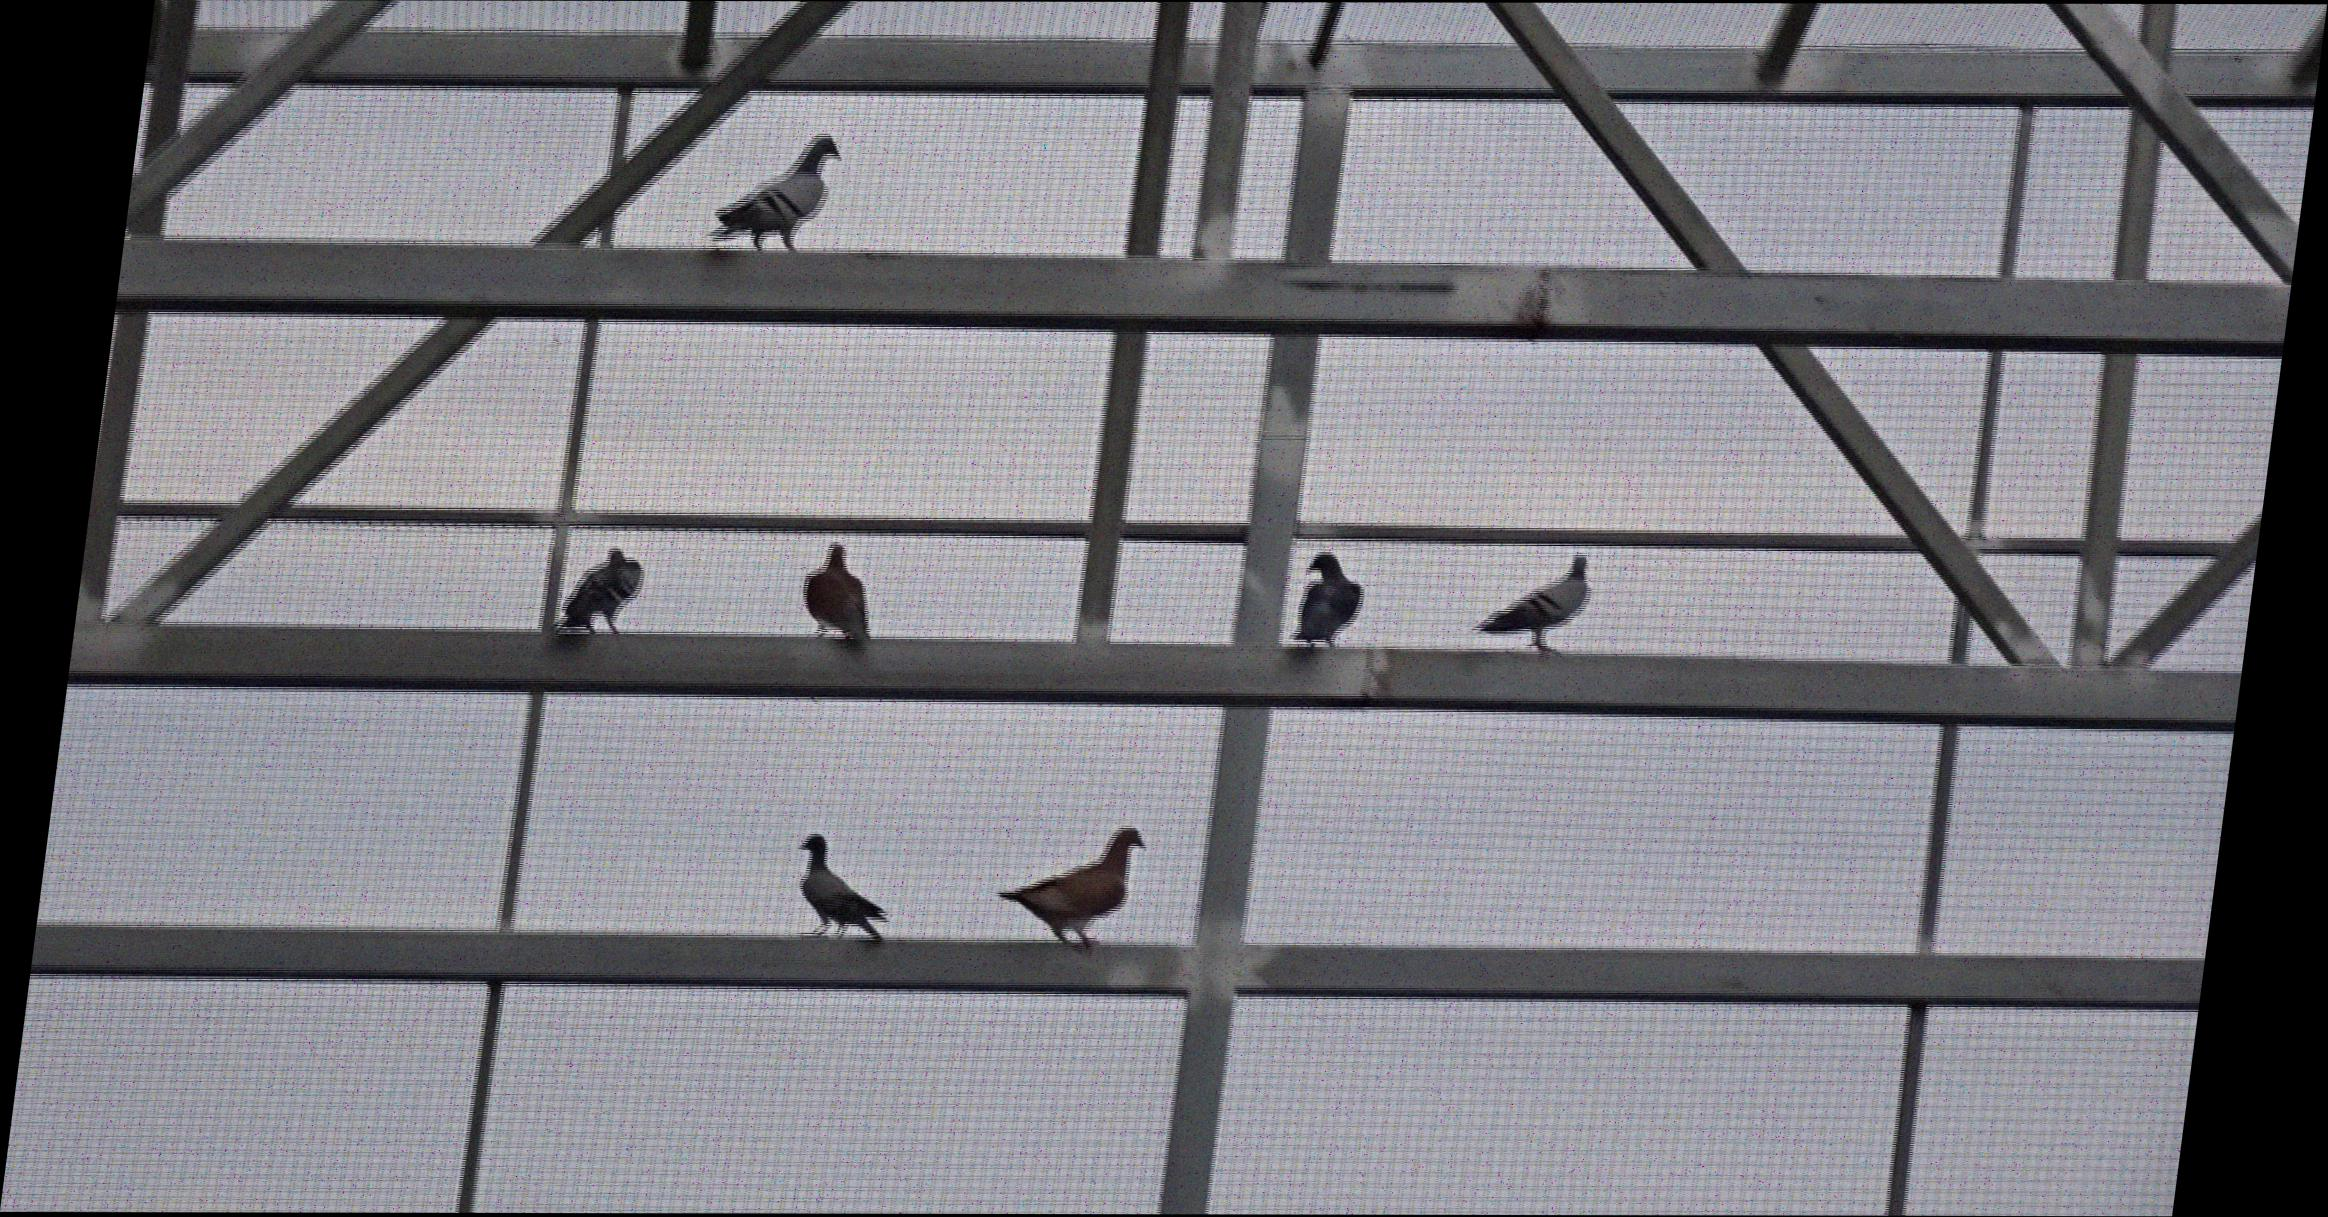bird: (985, 820, 1149, 947), (699, 132, 848, 251), (1467, 550, 1600, 652), (785, 833, 902, 943), (794, 541, 885, 642), (553, 545, 650, 638), (1293, 550, 1373, 649)
